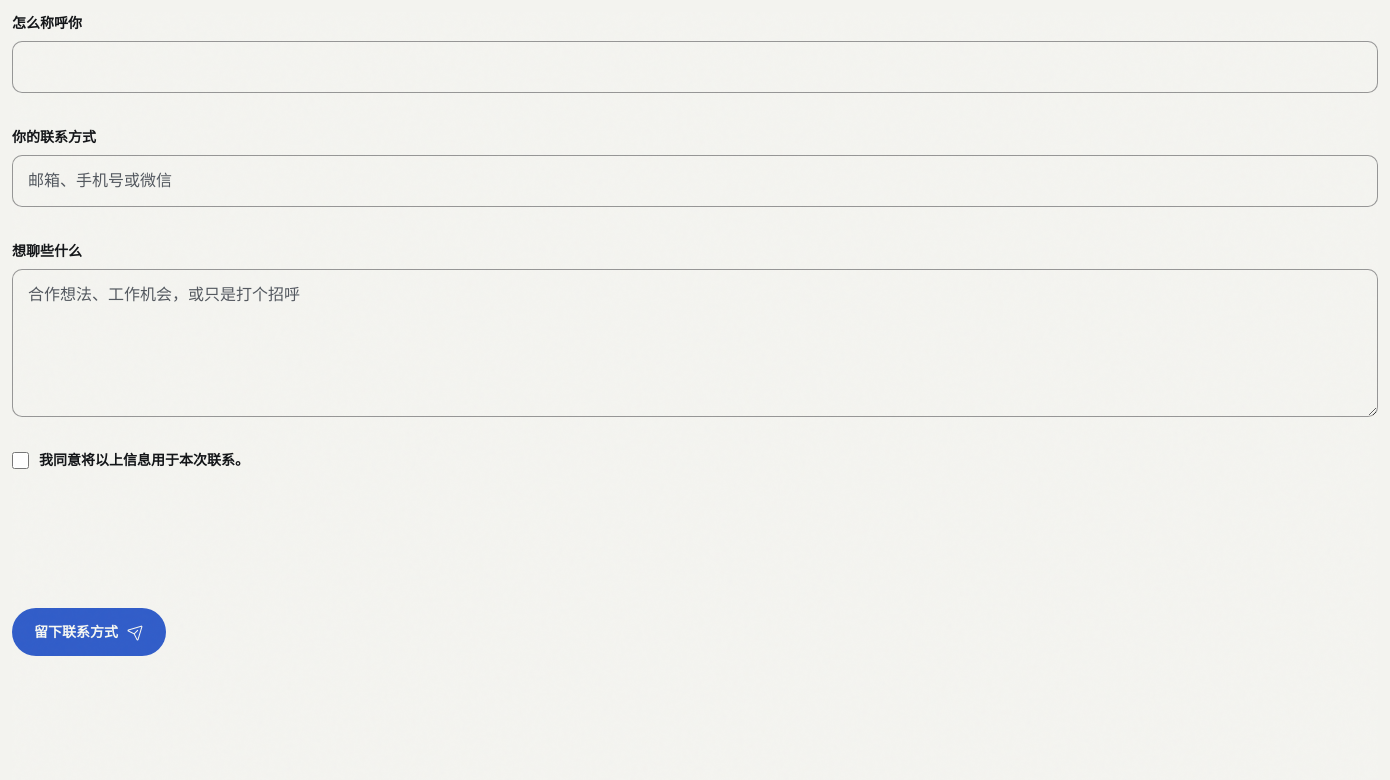
Test: ContactForm › submits exact values and shows the success state
Type "林先生" into the field labelled "怎么称呼你" at [695, 67], box [12,41,1378,93]
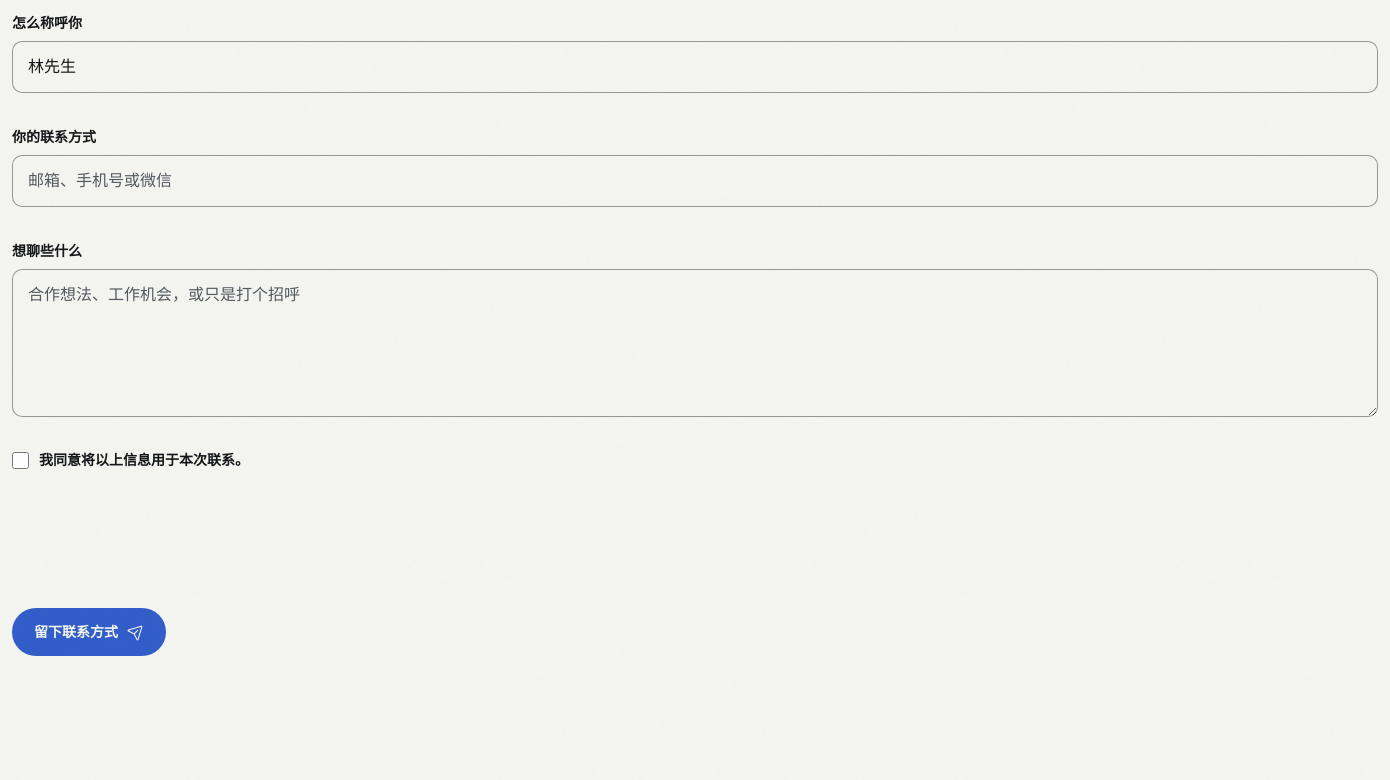
Type "lin@example.com" into the field labelled "你的联系方式" at [695, 181], box [12,155,1378,207]
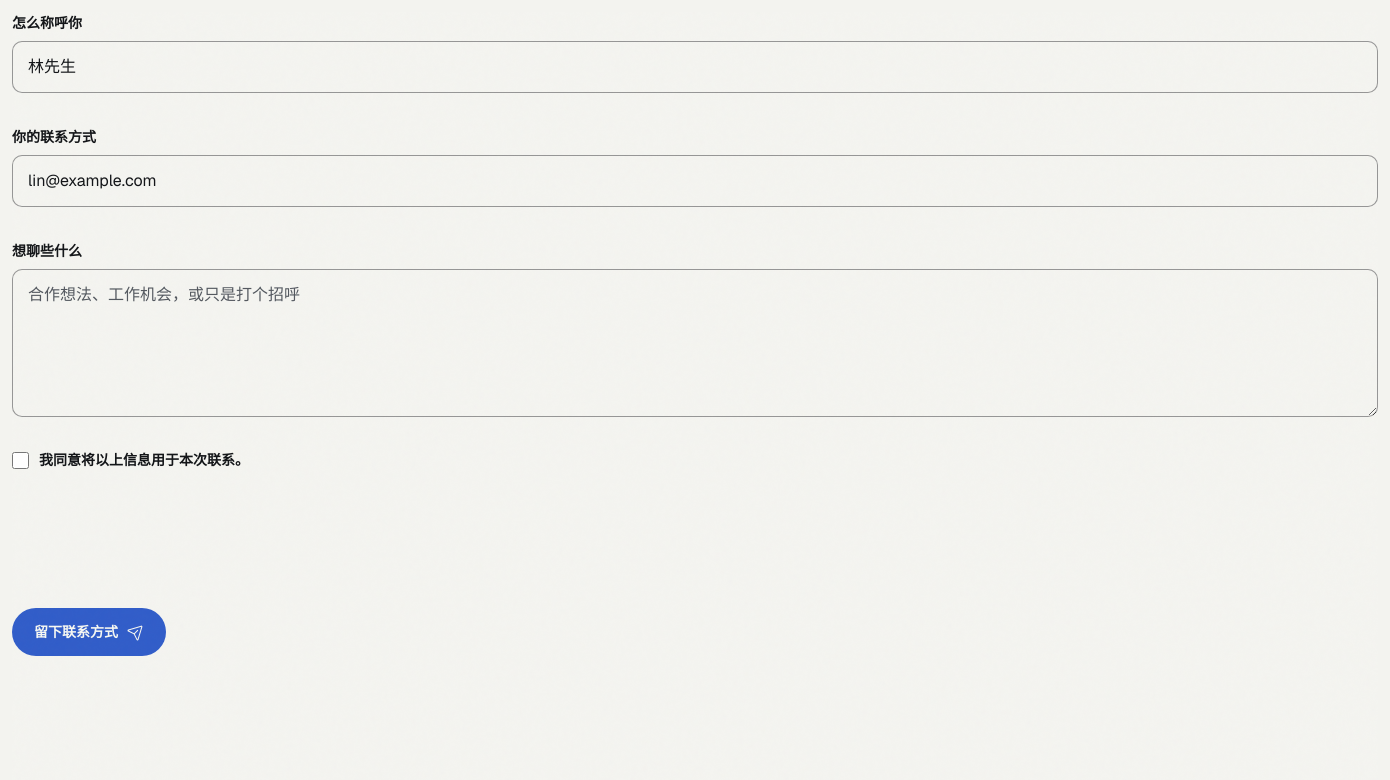
Type "想聊一个产品合作。" into the text box labelled "想聊些什么" at [695, 343], box [12,269,1378,417]
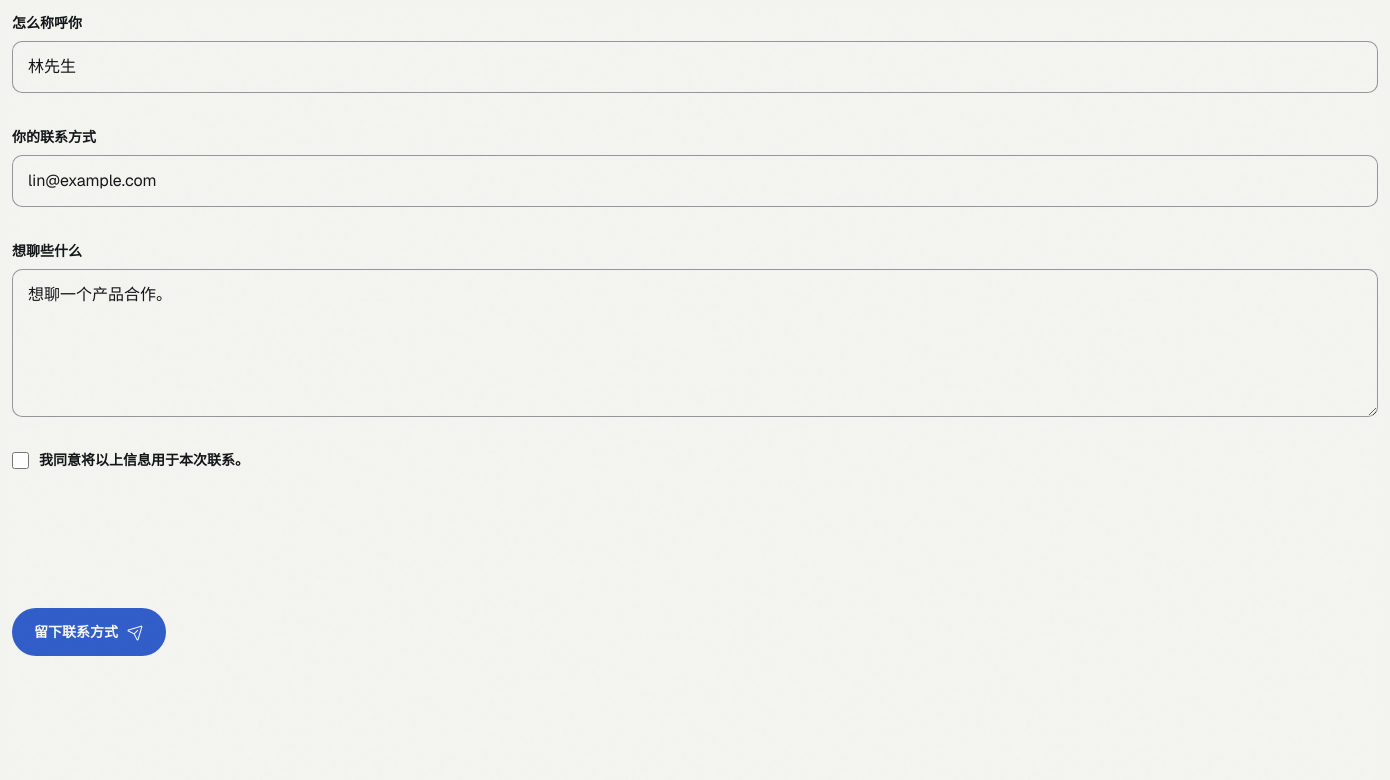
Click the checkbox labelled "我同意将以上信息用于本次联系。" at [20, 460], box [12,452,29,469]
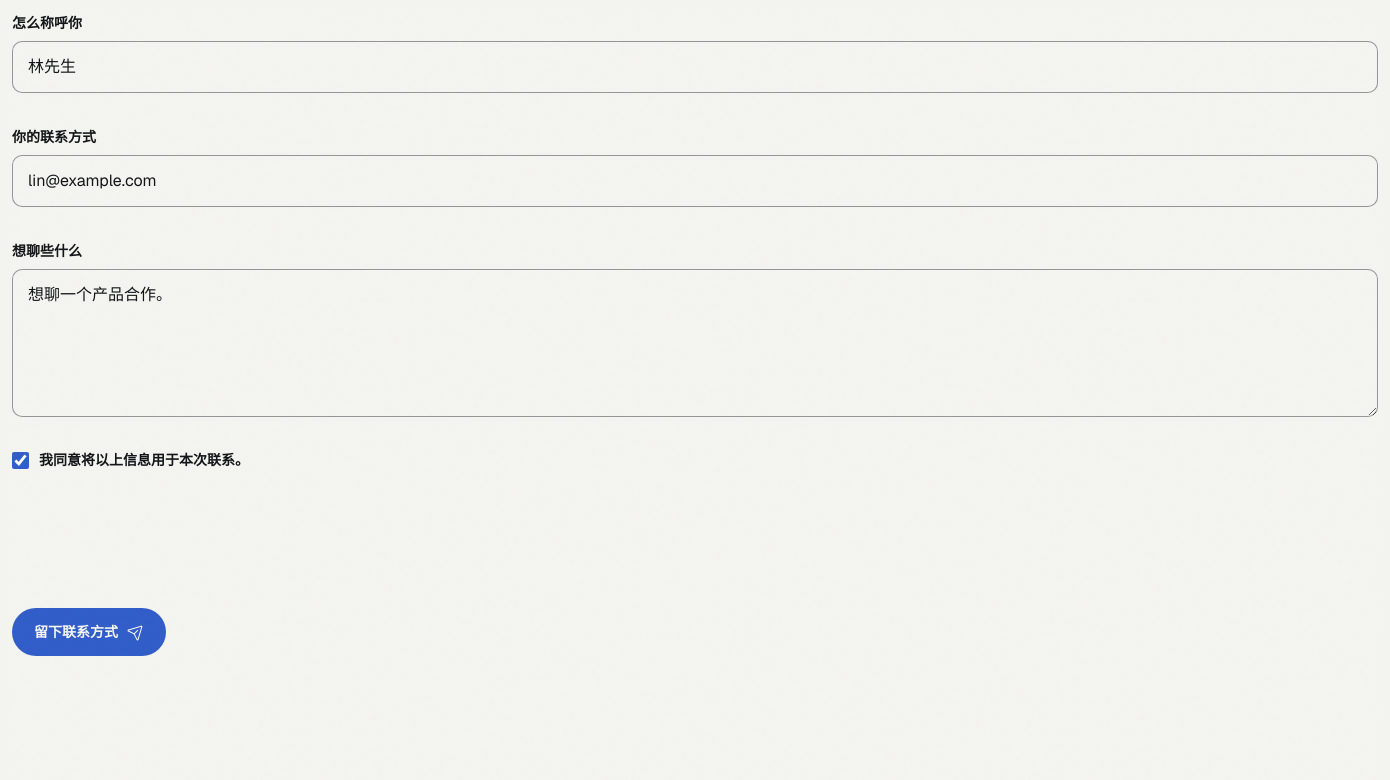
Click the button "留下联系方式" at [89, 632], box [12,608,166,656]
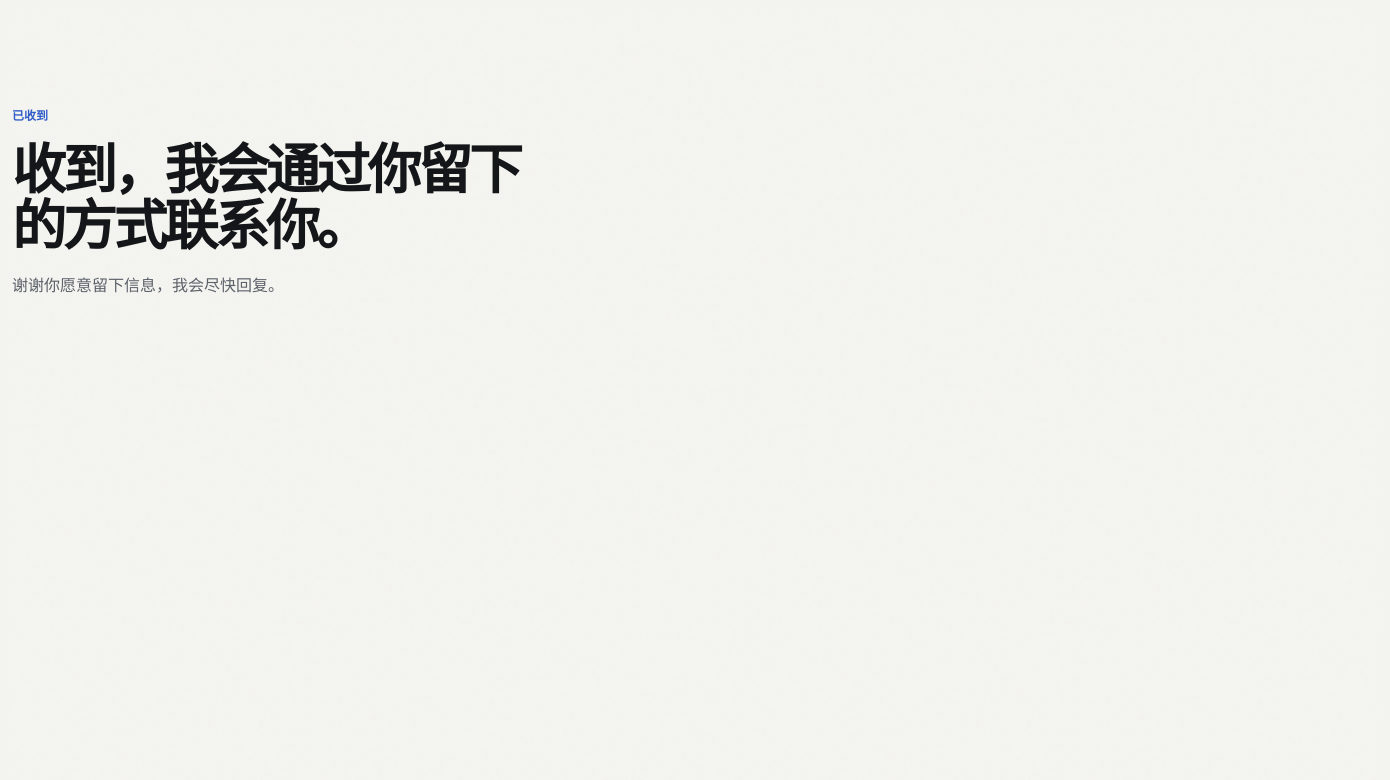
expect the heading "收到，我会通过你留下的方式联系你。" is shown: met, box [12,142,532,255]
